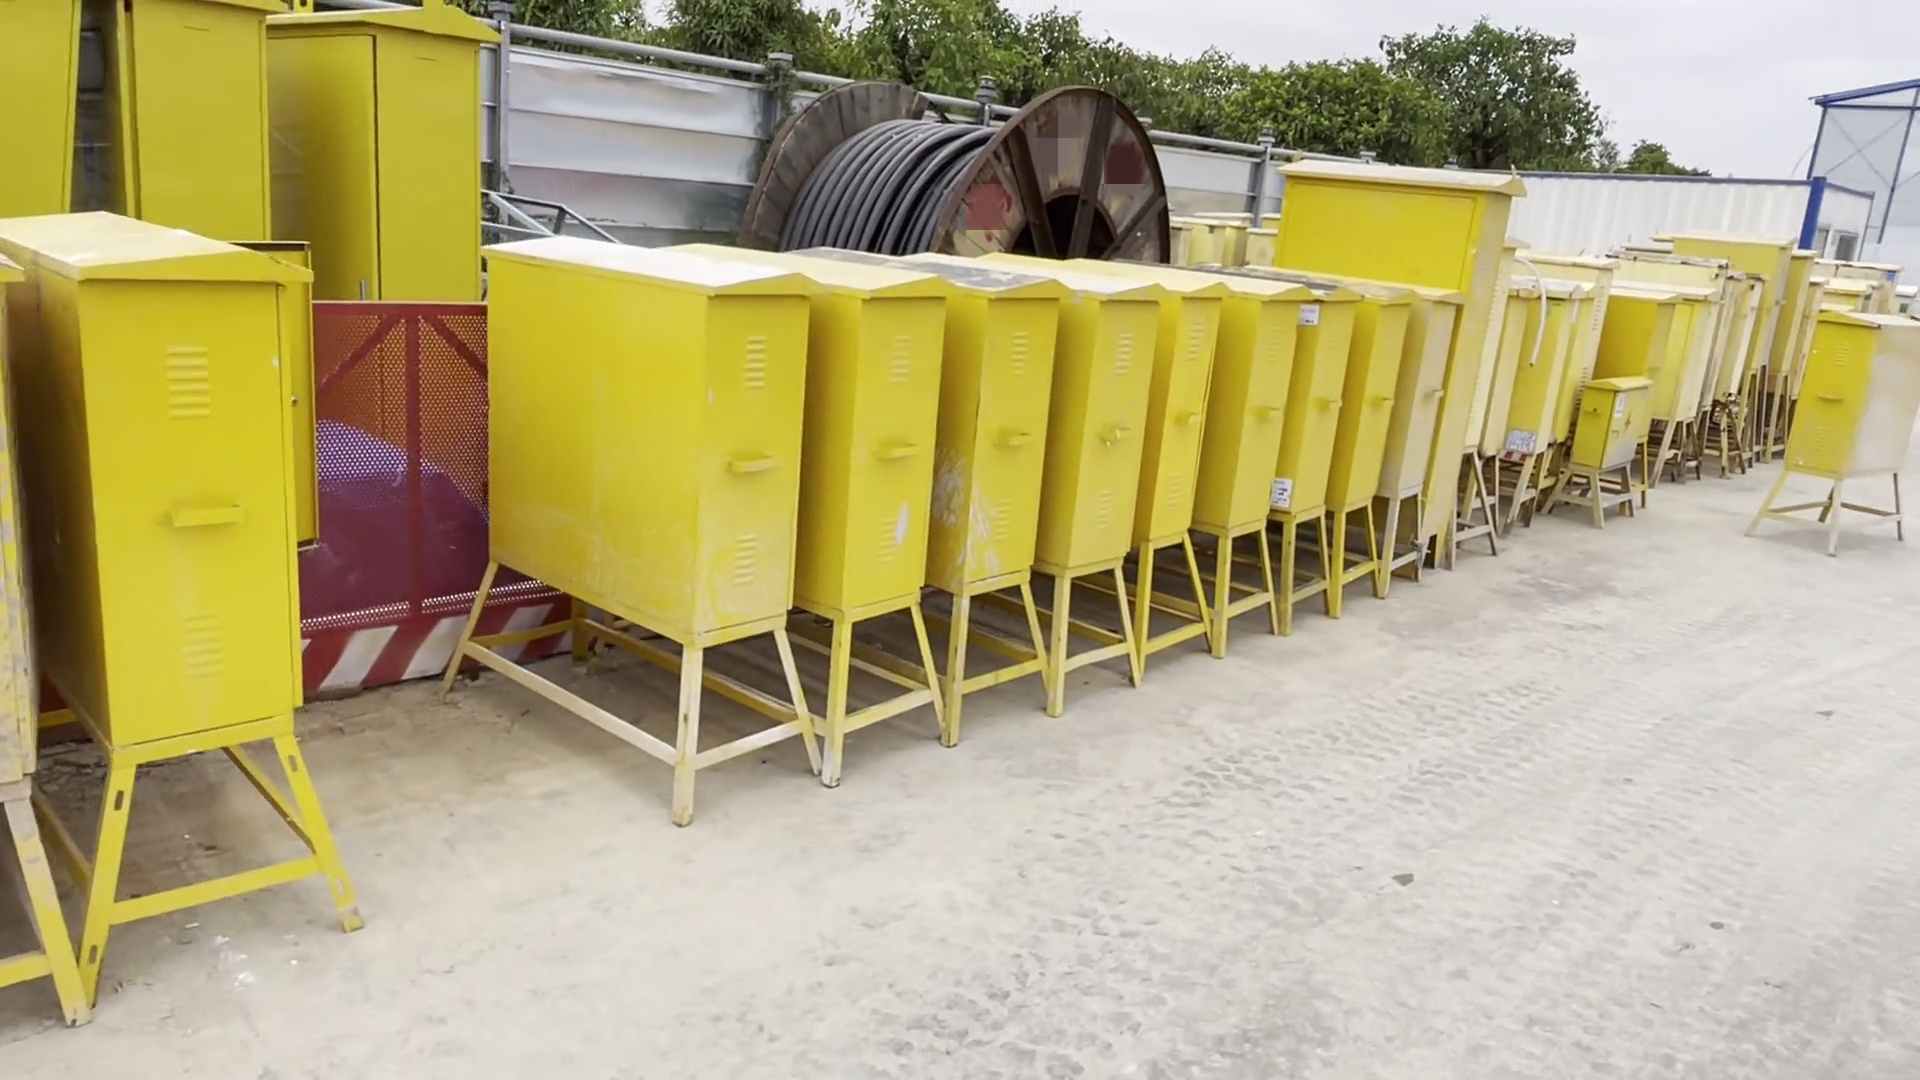ebox: (49, 194, 375, 1007), (425, 215, 823, 779), (1276, 164, 1499, 553), (793, 231, 948, 752), (270, 1, 477, 309), (938, 248, 1056, 746), (111, 1, 318, 280), (1048, 251, 1153, 713), (1760, 310, 1911, 556), (1211, 284, 1300, 665), (1146, 268, 1220, 680), (1283, 282, 1361, 633), (1375, 295, 1462, 600), (1335, 293, 1410, 615), (1673, 228, 1759, 469), (1505, 284, 1584, 537), (1545, 380, 1644, 530), (1600, 291, 1679, 380)
